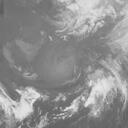cyclone: (46, 34, 117, 98)
